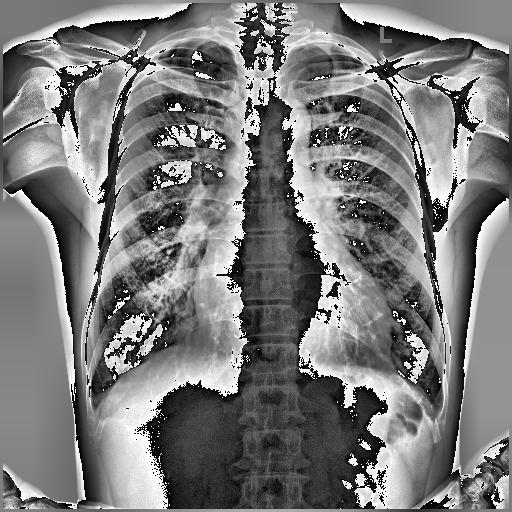0- Aortic enlargement: (262, 98, 312, 144)
10- Pleural effusion: (86, 388, 104, 423)
11- Pleural thickening: (86, 388, 104, 423), (166, 38, 218, 46)
3- Cardiomegaly: (194, 266, 392, 369), (190, 282, 393, 368), (191, 278, 392, 364)
5- ILD: (340, 116, 406, 296), (124, 190, 182, 324)
9- Other lesion: (100, 336, 178, 398)
